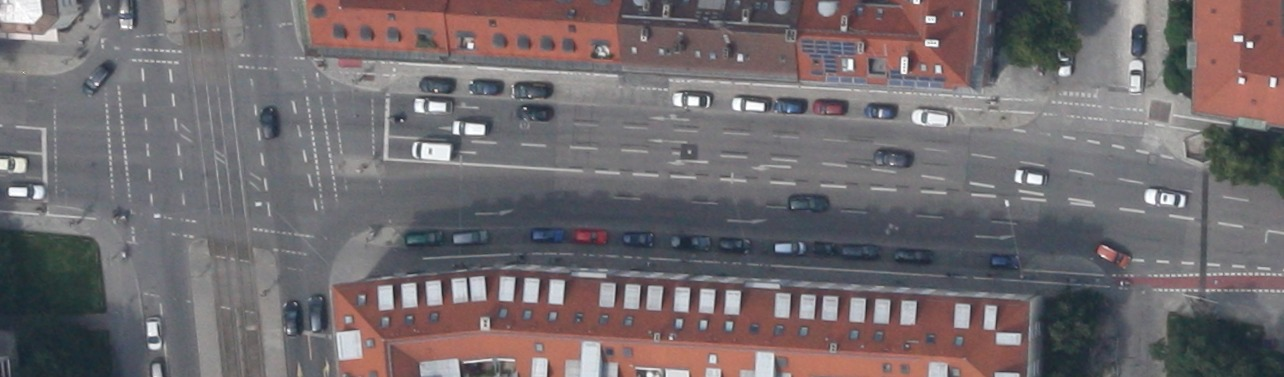car: (1143, 185, 1187, 209), (79, 63, 110, 96), (1095, 242, 1131, 270), (910, 107, 952, 127), (787, 193, 828, 212), (872, 148, 913, 167), (282, 299, 303, 336), (308, 294, 326, 332), (515, 103, 552, 121), (404, 230, 443, 247), (512, 81, 550, 98), (418, 76, 456, 93), (894, 247, 932, 264), (258, 106, 278, 138), (841, 243, 881, 259), (413, 97, 452, 113), (730, 96, 769, 112), (671, 92, 710, 108), (670, 234, 709, 250), (1013, 168, 1046, 186), (574, 227, 607, 245), (451, 119, 488, 135), (1127, 59, 1144, 93), (452, 229, 488, 245), (864, 101, 897, 118), (1056, 42, 1073, 75), (718, 235, 749, 253), (813, 98, 847, 114), (774, 97, 806, 114), (530, 227, 564, 243), (7, 185, 45, 199), (623, 230, 654, 247), (773, 239, 805, 255), (989, 253, 1020, 269), (146, 316, 161, 349), (468, 79, 500, 94), (1131, 24, 1146, 54), (814, 241, 835, 255)
